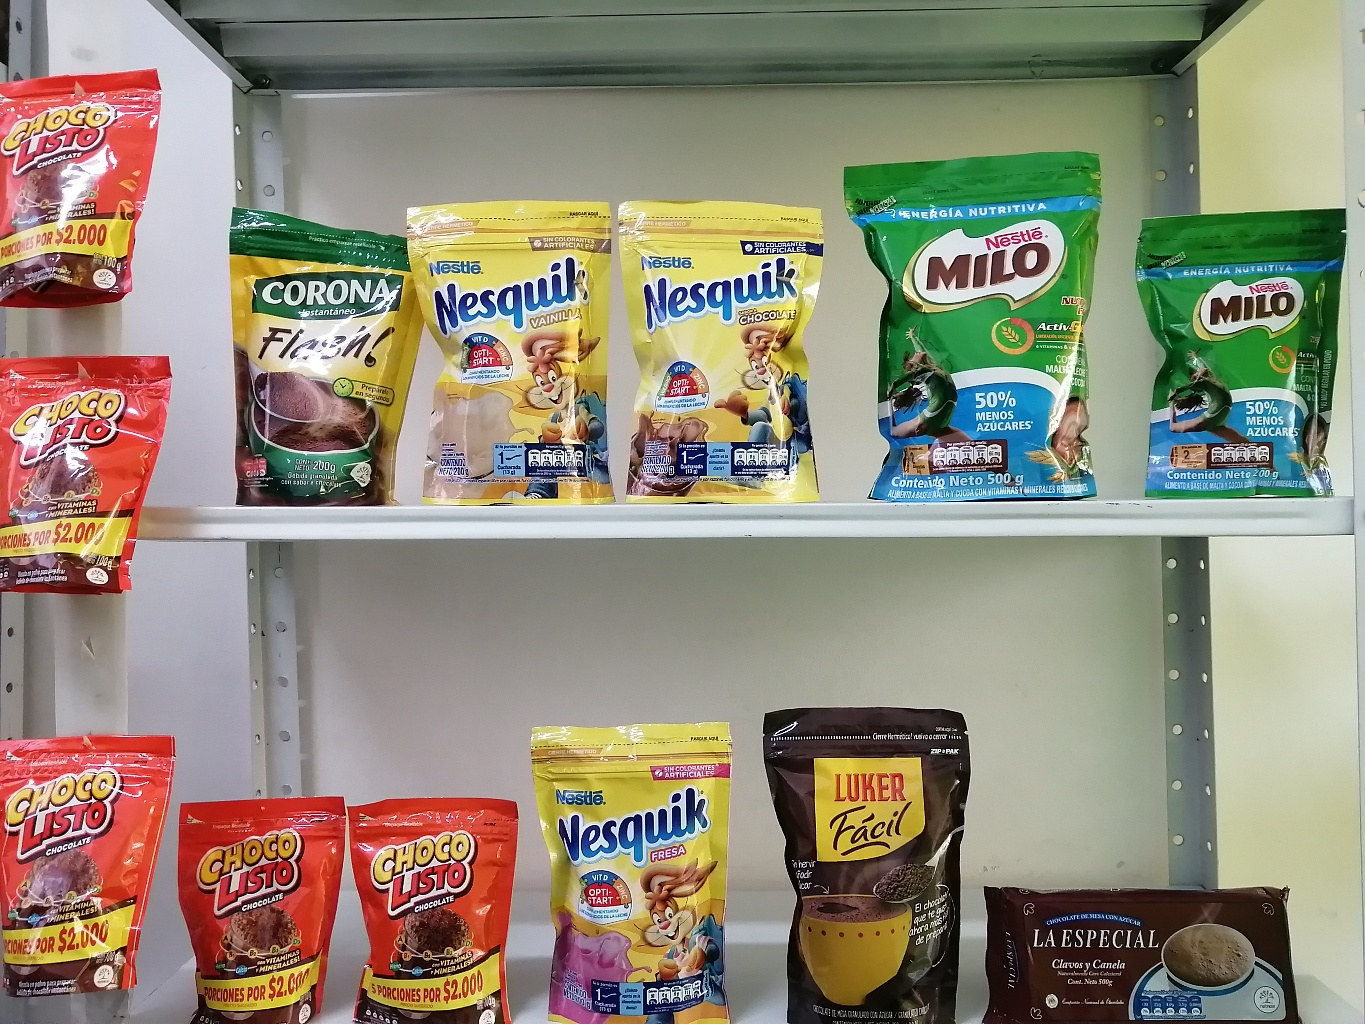COL0170205DYP20000: (1123, 172, 1345, 495)
COL0170205DYP50000: (814, 125, 1111, 507)
COL0170303DYP20000: (607, 177, 844, 504)
COL0170305DYP20000: (518, 709, 747, 1014)
COL0170306DYP20000: (397, 177, 616, 510)
